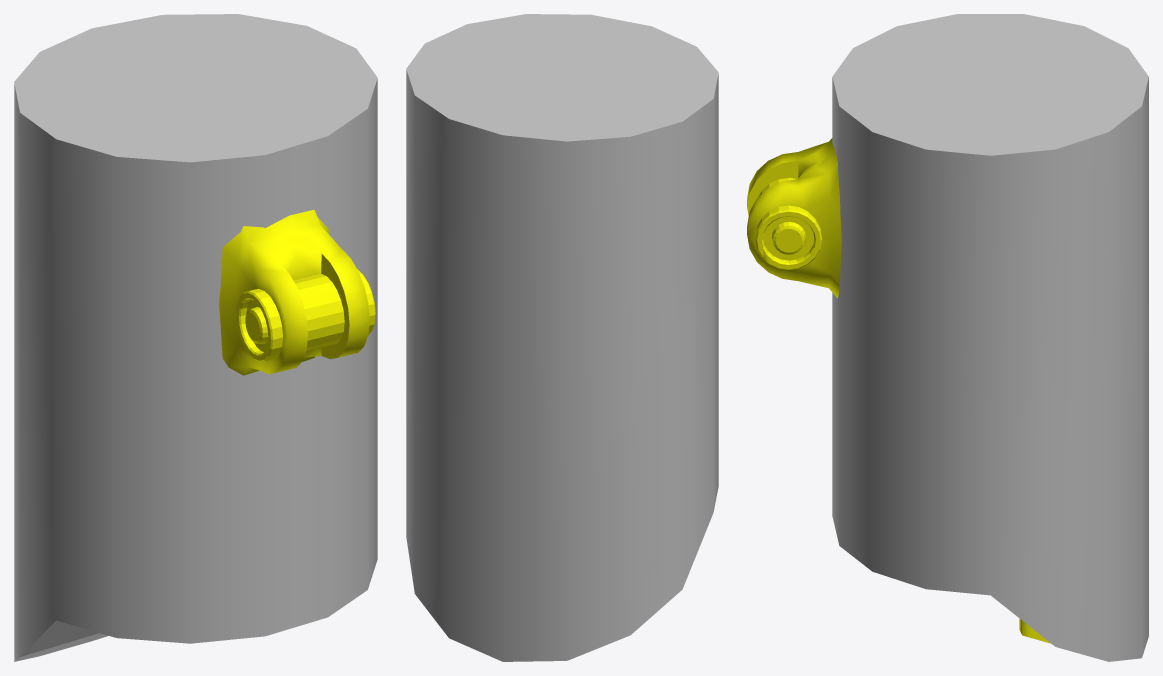
File: sm_hana_pgs_lane_camera.glb
3 renders of one model, left to right at view 1: azimuth 30°, elevation 25°; view 2: azimuth 150°, elevation 25°; view 3: azimuth 270°, elevation 25°, orthographic. The views are drawn at different scales.
Visible parts, largest first — view 1: sm_color_common, sm_hana_pgs_lane_camera; view 2: sm_color_common; view 3: sm_color_common, sm_hana_pgs_lane_camera.
Part boxes in pixels (x1,y1,x2,y2): sm_color_common: [14, 14, 377, 661]; sm_hana_pgs_lane_camera: [219, 209, 375, 375]; sm_color_common: [406, 14, 718, 661]; sm_color_common: [832, 14, 1148, 661]; sm_hana_pgs_lane_camera: [747, 138, 1050, 643].
Size of the model in its own units: 0.4722 by 0.8694 by 0.5655.
Materials: 2 (1 with a texture image).
